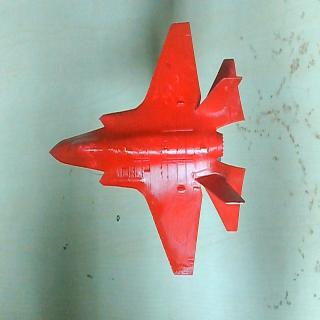Jet: (49, 20, 247, 278)
